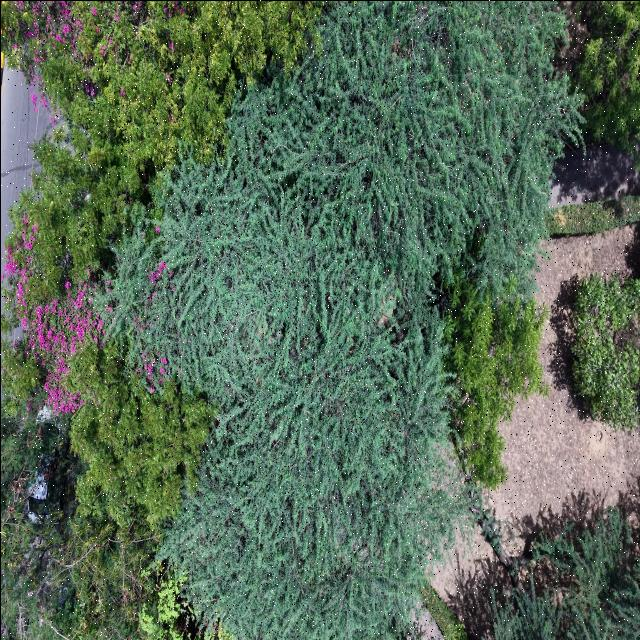DRY_AREA: (488, 224, 639, 553), (549, 141, 639, 206), (549, 145, 639, 206)
VEGETATION_TREE: (1, 1, 579, 639), (106, 4, 575, 638), (2, 1, 319, 638), (112, 163, 461, 639), (1, 1, 319, 348), (221, 1, 577, 306), (1, 1, 319, 324), (2, 186, 214, 638), (2, 131, 207, 521), (3, 282, 213, 638), (340, 7, 573, 296), (2, 217, 214, 526), (1, 1, 321, 198), (1, 348, 211, 639), (1, 411, 157, 639), (444, 277, 548, 586), (67, 343, 213, 529), (5, 125, 129, 306), (445, 279, 547, 488), (493, 508, 639, 639), (1, 412, 76, 638), (41, 497, 157, 639), (5, 248, 104, 413), (558, 1, 639, 167), (571, 274, 639, 429), (139, 562, 235, 639), (465, 475, 527, 590), (139, 564, 192, 639), (546, 194, 640, 236), (421, 584, 466, 639)
